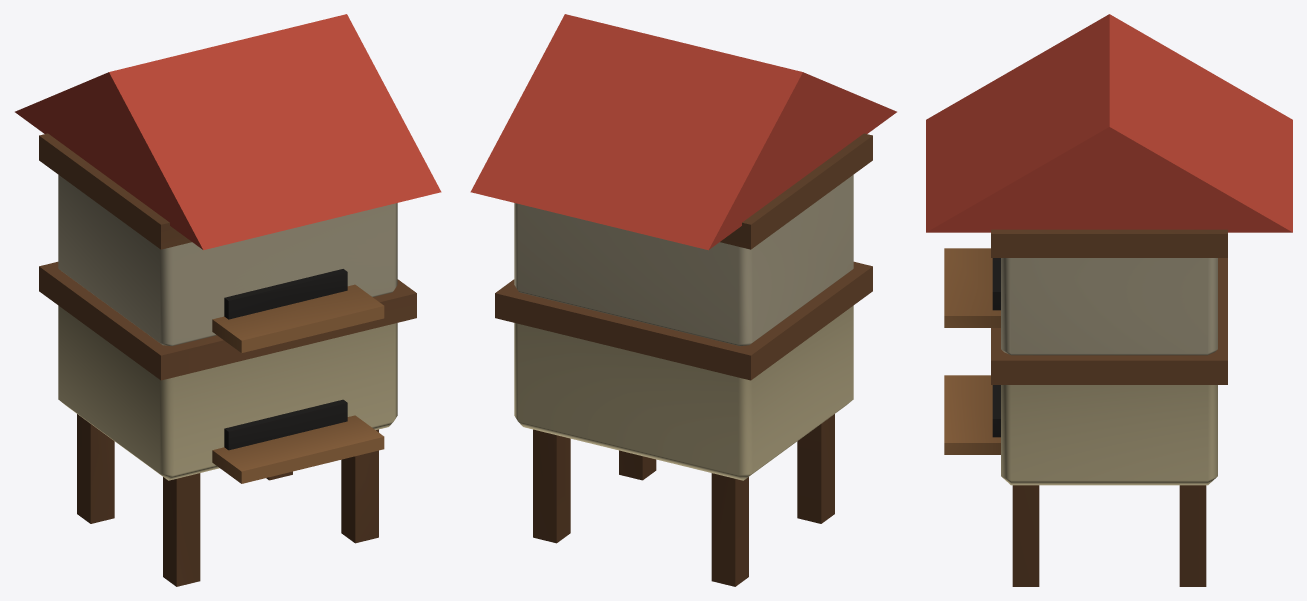
File: prop.honey_hive.glb
3 views of the same model, side by side, from view 1: azimuth 30°, elevation 25°; view 2: azimuth 150°, elevation 25°; view 3: azimuth 270°, elevation 25° (orthographic). The views are drawn at different scales.
Visible parts, largest first — view 1: honey_hive; view 2: honey_hive; view 3: honey_hive.
Part boxes in pixels (x1,y1,x2,y2): honey_hive: (15, 14, 441, 586); honey_hive: (470, 14, 896, 586); honey_hive: (926, 14, 1292, 586).
Bounding box in the file's own units: 0.86 × 1.55 × 1.1.
